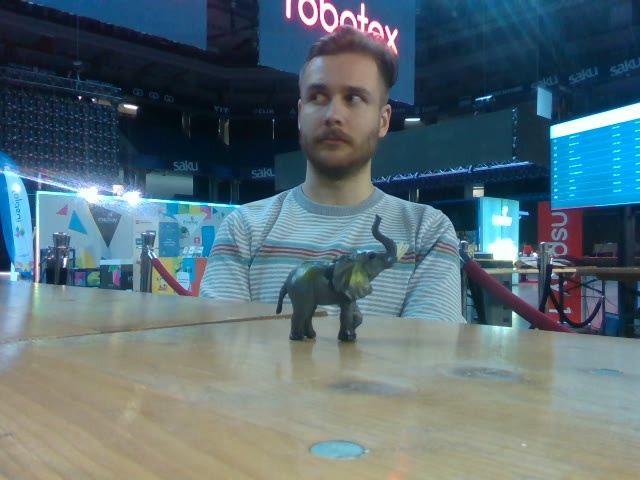toy: (276, 213, 409, 341)
